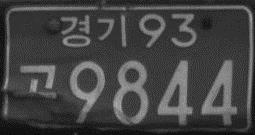3: (168, 10, 197, 48)
4: (200, 57, 239, 127), (154, 60, 195, 126)
8: (110, 58, 149, 126)
9: (68, 59, 108, 125), (138, 12, 167, 50)
경기_O: (57, 14, 128, 50)
고: (15, 61, 60, 102)
